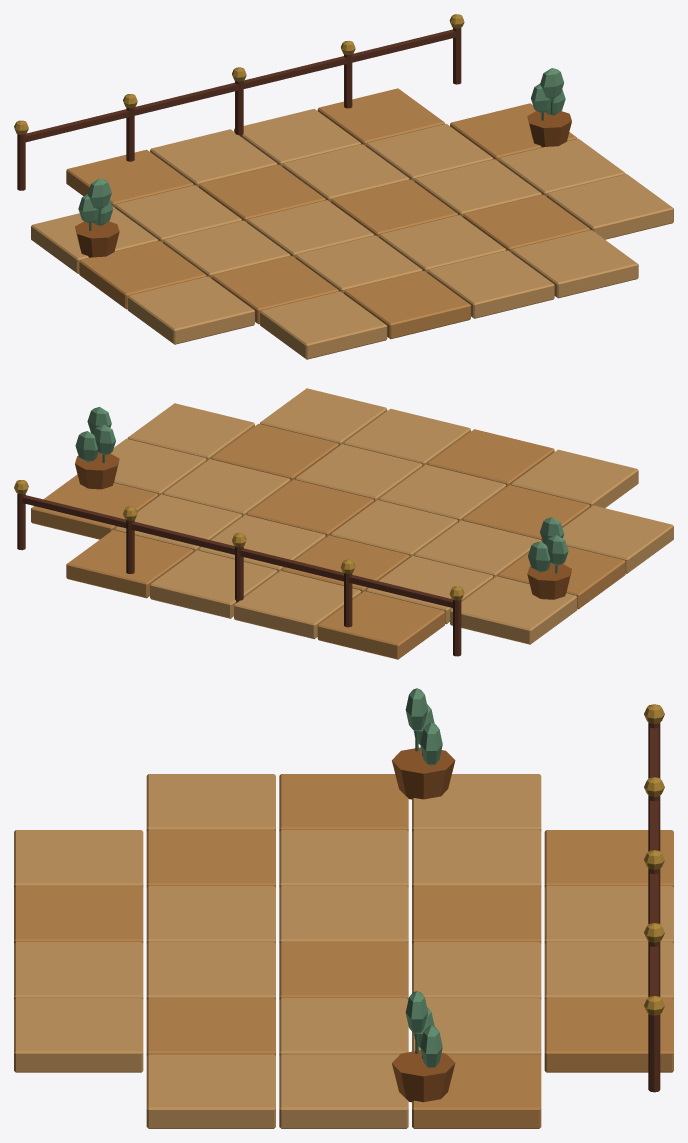
Rendered from library.glb.
3 views of the same model, one above another, from view 1: azimuth 30°, elevation 25°; view 2: azimuth 150°, elevation 25°; view 3: azimuth 270°, elevation 25° (orthographic). The views are drawn at different scales.
Visible parts, largest first — view 1: Returns_mesh, Stacks_mesh; view 2: Returns_mesh, Stacks_mesh; view 3: Returns_mesh, Stacks_mesh.
Boxes of the visible parts, x1,y1,x2,y2 form: Returns_mesh: (79,138,673,359); Stacks_mesh: (14,14,577,273); Returns_mesh: (110,388,673,609); Stacks_mesh: (14,407,577,659); Returns_mesh: (14,774,408,1128); Stacks_mesh: (392,688,673,1128).
Size of the model in its own units: 5.98 by 1.02 by 4.97.
